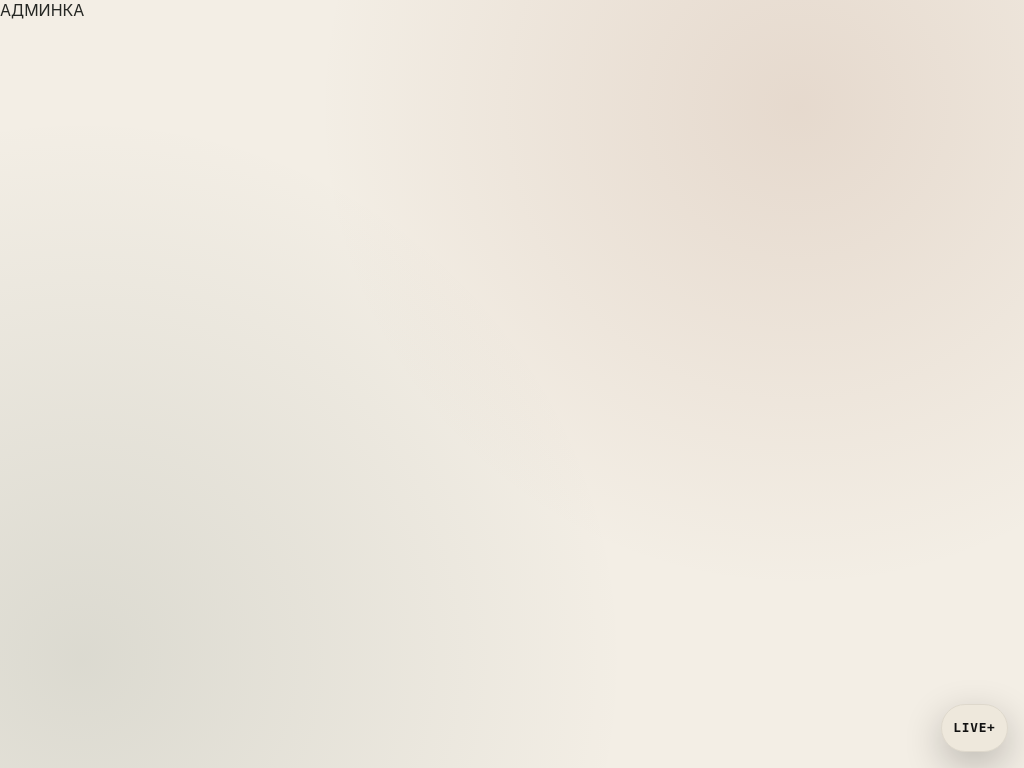
Test: AdminWeddingLiveDock › shows message count and can close and publish the capsule
Later steps or results of the test are not shown.
Click the button with aria-label "Открыть LIVE+ пульт" at (974, 728), box [941,704,1008,752]
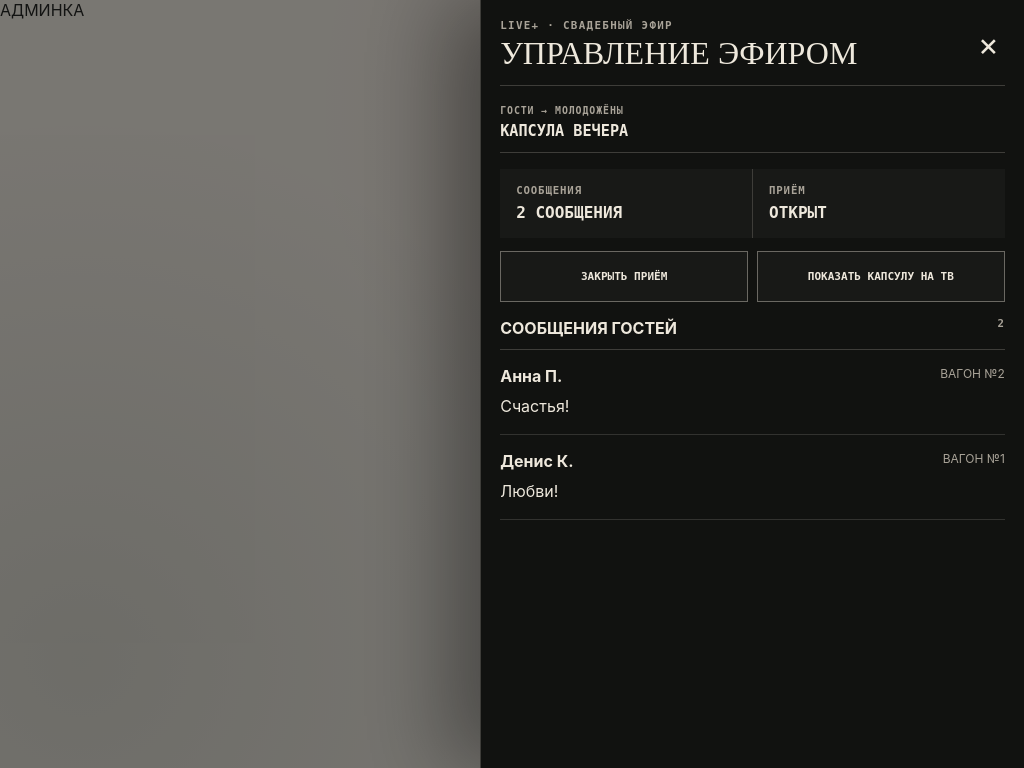
Now the text "2 СООБЩЕНИЯ" is shown, box [516,203,622,222]
Now the text "Анна П." is shown, box [500,366,562,386]
